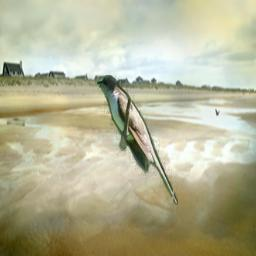Cuckoo: (97, 75, 178, 205)
